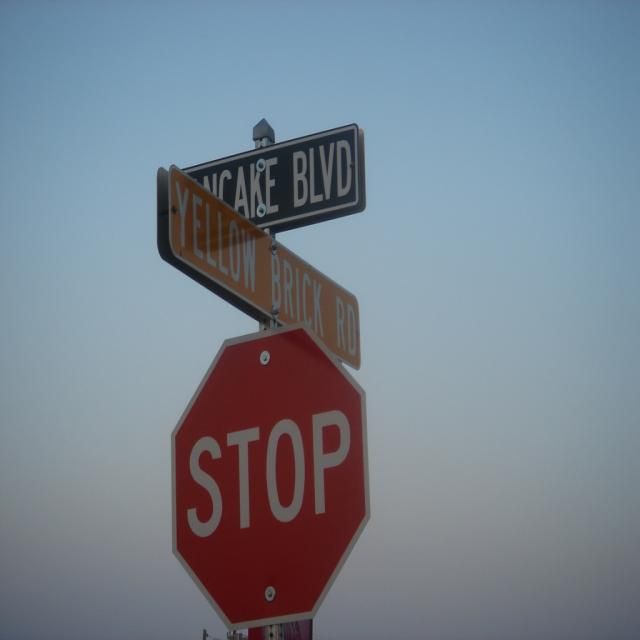Stop-sign: (168, 327, 370, 623)
